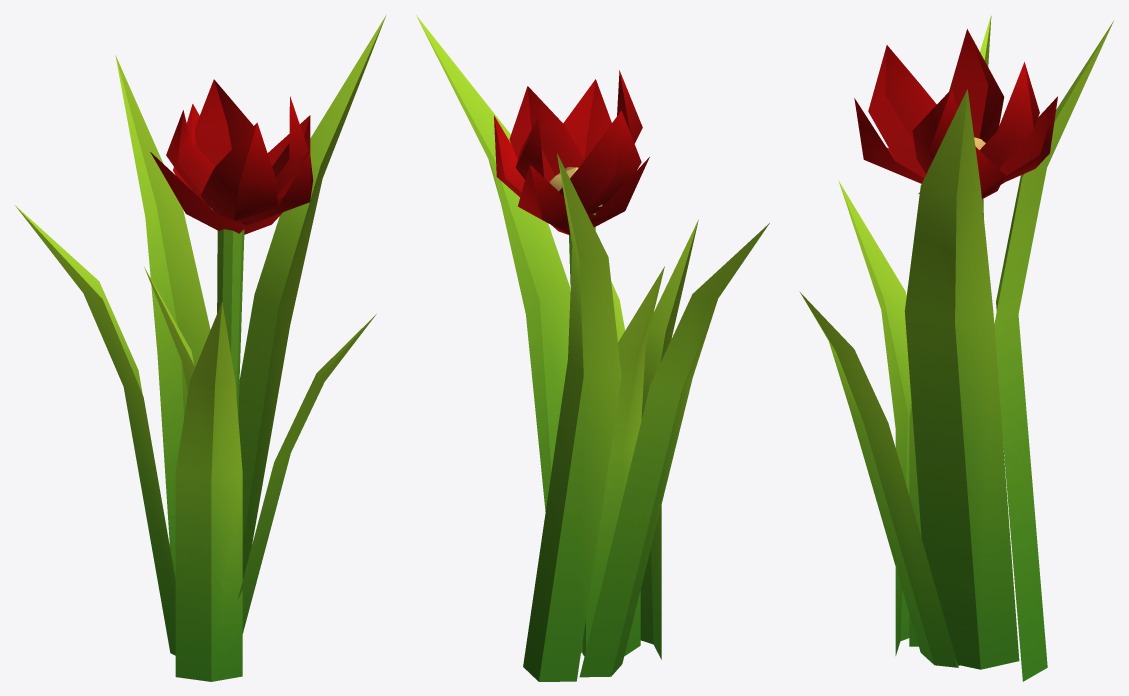
3 renders of one model, left to right at view 1: azimuth 30°, elevation 25°; view 2: azimuth 150°, elevation 25°; view 3: azimuth 270°, elevation 25°, orthographic. The views are drawn at different scales.
Parts seen in each view (by area): view 1: FlowerRed; view 2: FlowerRed; view 3: FlowerRed.
Part boxes in pixels (x1=…): FlowerRed: x1=15, y1=15, x2=386, y2=681; FlowerRed: x1=416, y1=15, x2=769, y2=681; FlowerRed: x1=799, y1=15, x2=1113, y2=681.
Bounding box in the file's own units: 25.33 × 40 × 17.12.
1 material, 1 textured.
